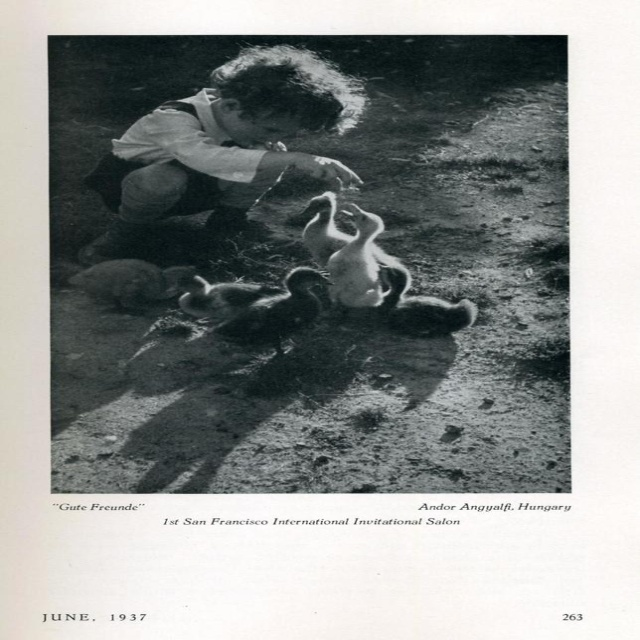Duck: (202, 264, 332, 365), (372, 258, 490, 342), (328, 202, 414, 313), (66, 263, 203, 321), (281, 185, 358, 251)
